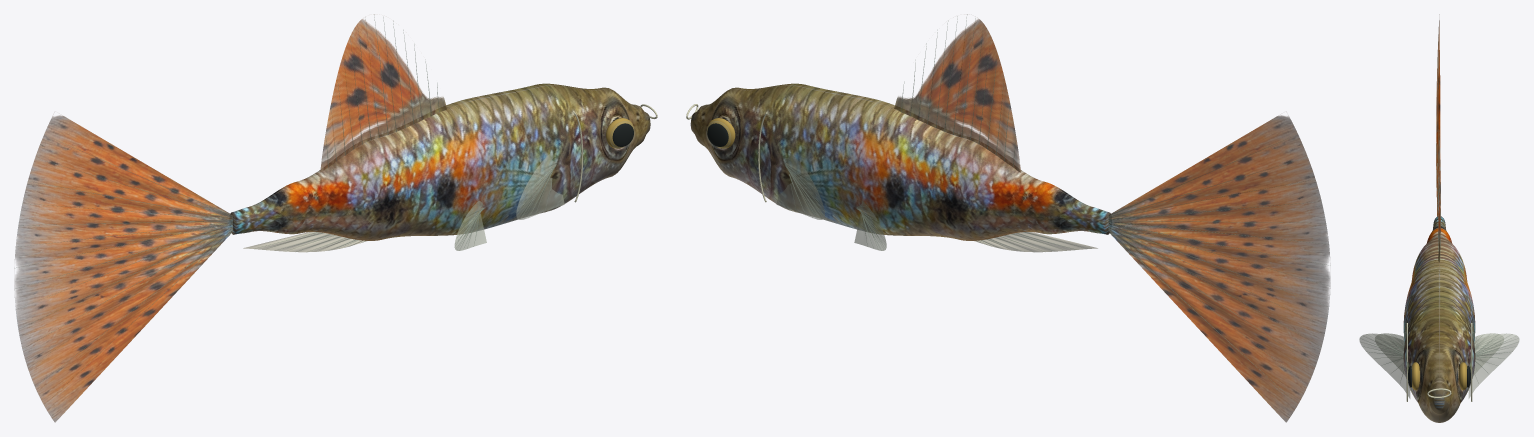
The model's file is guppy-desktop.glb.
3 renders of one model, left to right at view 1: azimuth 30°, elevation 25°; view 2: azimuth 150°, elevation 25°; view 3: azimuth 270°, elevation 25°, orthographic. The views are drawn at different scales.
Visible parts, largest first — view 1: tail, skin, dorsal, dorsal-ray, pectoral-right, anal, pelvic-right; view 2: tail, skin, dorsal, dorsal-ray, pectoral-left, anal, pelvic-left; view 3: skin, pectoral-left, pectoral-right, dorsal-ray, tail, pelvic-left, pelvic-right, operculum, eye-iris--1, dorsal.
Boxes of the visible parts, x1,y1,x2,y2 form: tail: [14, 115, 232, 422]; skin: [230, 83, 650, 240]; dorsal: [320, 19, 446, 171]; dorsal-ray: [16, 14, 556, 397]; pectoral-right: [516, 152, 564, 219]; anal: [243, 232, 366, 252]; pelvic-right: [454, 201, 486, 250]; tail: [1108, 115, 1330, 422]; skin: [690, 83, 1110, 240]; dorsal: [894, 19, 1020, 172]; dorsal-ray: [784, 14, 1328, 402]; pectoral-left: [776, 152, 824, 219]; anal: [974, 232, 1097, 252]; pelvic-left: [854, 201, 886, 250]; skin: [1403, 216, 1475, 422]; pectoral-left: [1468, 333, 1519, 398]; pectoral-right: [1359, 333, 1410, 398]; dorsal-ray: [1362, 41, 1517, 378]; tail: [1436, 14, 1440, 216]; pelvic-left: [1473, 333, 1503, 376]; pelvic-right: [1375, 333, 1405, 376]; operculum: [1406, 323, 1472, 401]; eye-iris--1: [1411, 362, 1467, 390]; dorsal: [1438, 131, 1440, 262].
Bounding box in the file's own units: 0.5912 × 0.2931 × 0.1474.
Materials: 11 (3 with a texture image).
